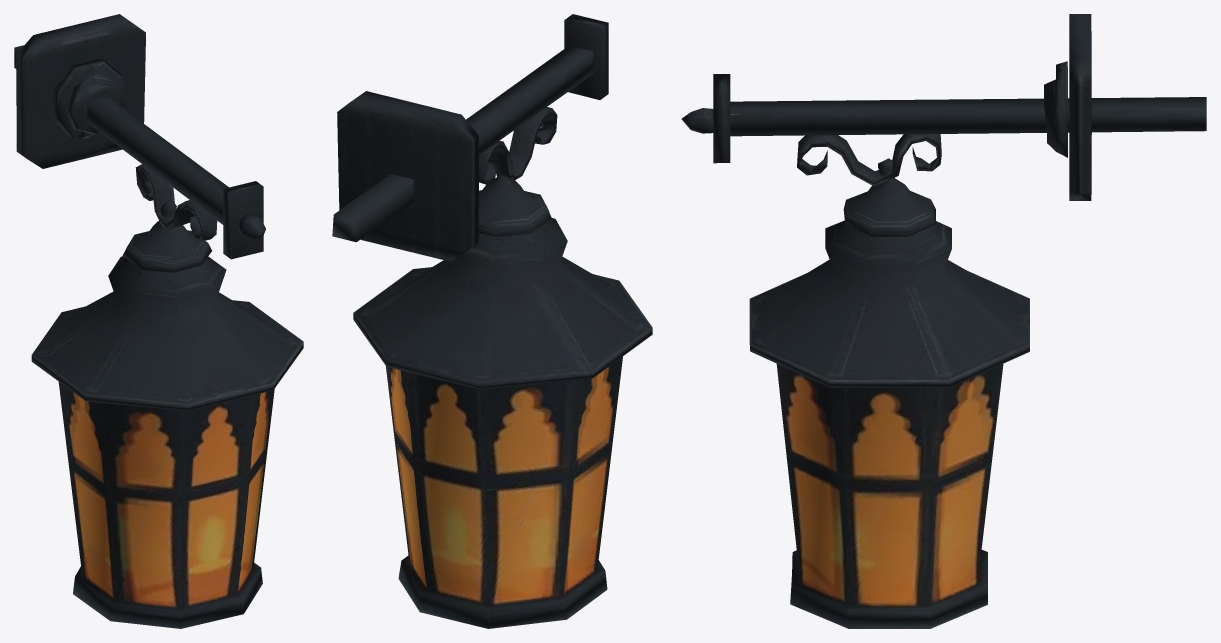
Rendered from lantern.glb.
The picture shows the model from 3 angles, left to right: view 1: azimuth 30°, elevation 25°; view 2: azimuth 150°, elevation 25°; view 3: azimuth 270°, elevation 25°; orthographic projection. The views are drawn at different scales.
Size of the model in its own units: 0.3432 by 0.8003 by 0.648.
Materials: 1 (1 with a texture image).
